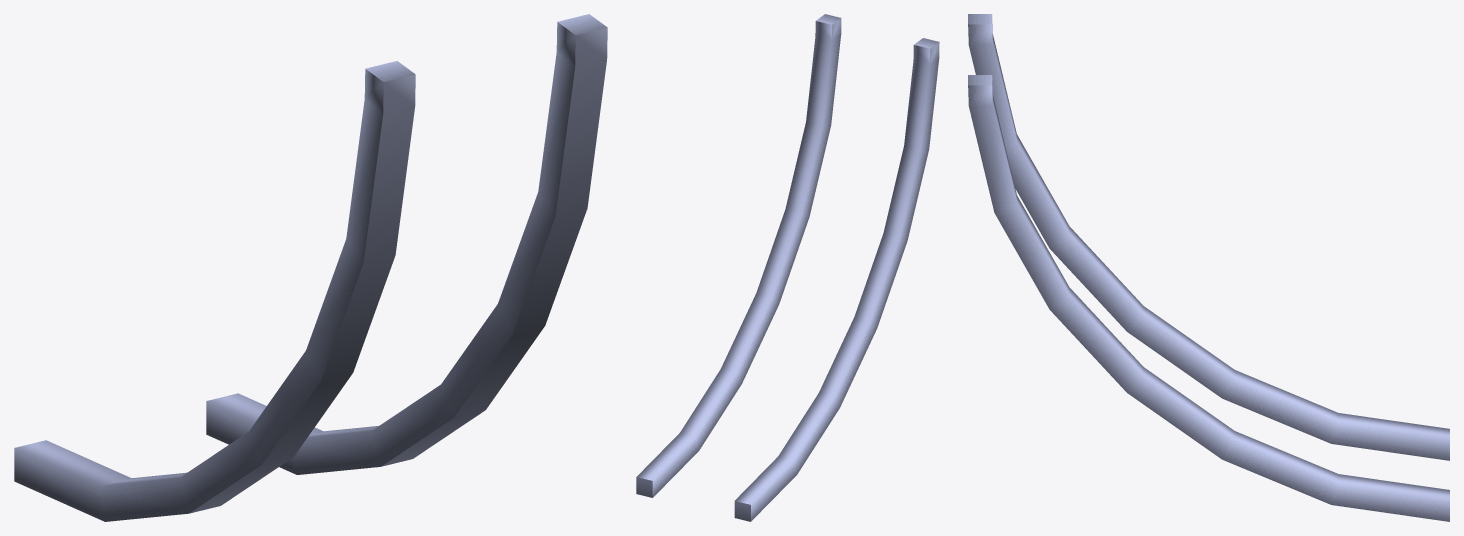
File: railroad-rail-straight-bend.glb
3 views of the same model, side by side, from view 1: azimuth 30°, elevation 25°; view 2: azimuth 150°, elevation 25°; view 3: azimuth 270°, elevation 25° (orthographic). The views are drawn at different scales.
Parts seen in each view (by area): view 1: railroad-rail-straight-bend; view 2: railroad-rail-straight-bend; view 3: railroad-rail-straight-bend.
Part boxes in pixels (<box>): railroad-rail-straight-bend: <box>14,14,607,521</box>; railroad-rail-straight-bend: <box>636,14,939,521</box>; railroad-rail-straight-bend: <box>968,14,1449,521</box>.
Bounding box in the file's own units: 0.7 × 2 × 2.
1 material, 1 textured.
